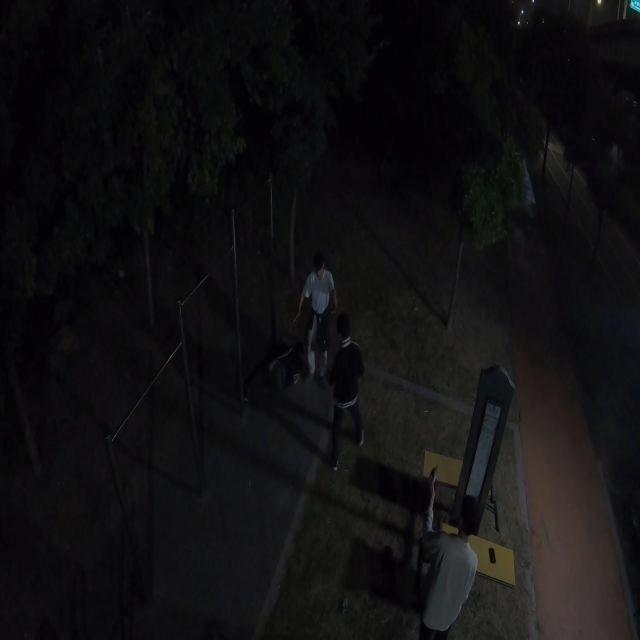fight: (277, 256, 369, 472)
